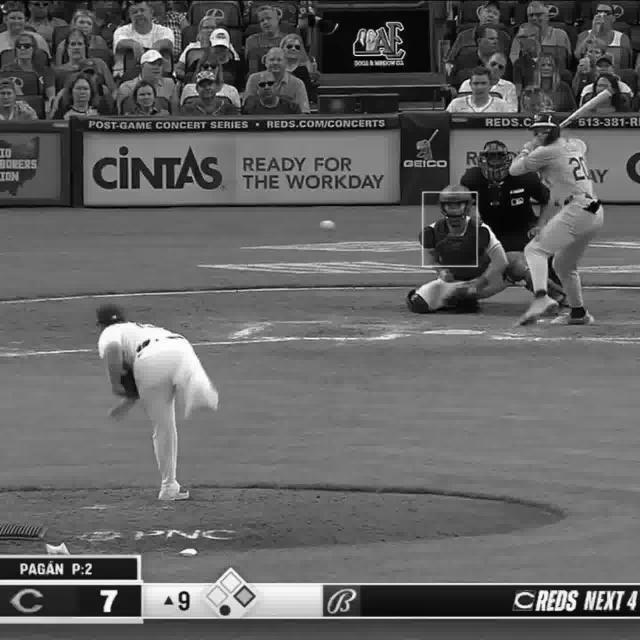base: (413, 322, 491, 337)
baseball: (316, 220, 336, 230)
baseball_glove: (113, 361, 143, 405), (439, 284, 484, 313)
bat: (559, 85, 618, 128)
shoe: (510, 300, 558, 331), (543, 303, 598, 324), (174, 384, 217, 410), (151, 481, 191, 504)
